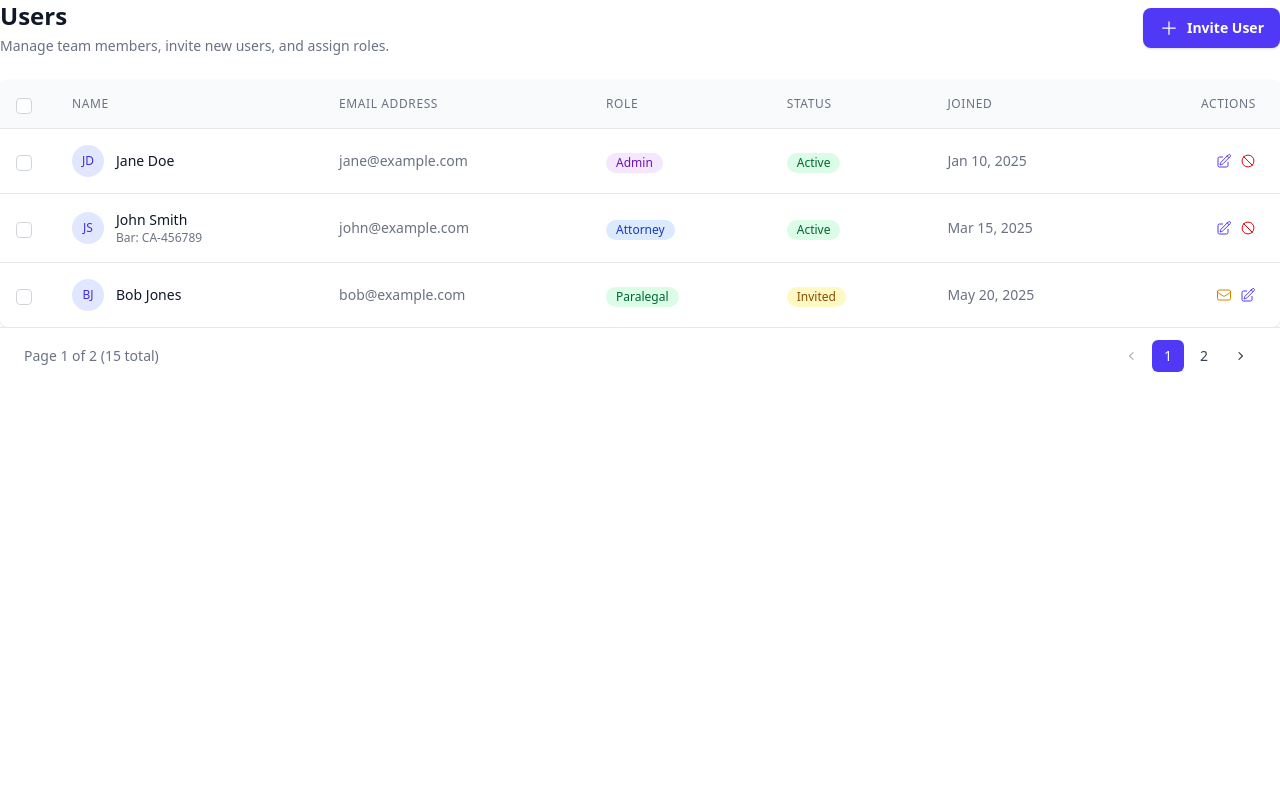
Test: UsersView › opens invite user modal on click
Click the button "Invite User": (1212, 28) [1143,8,1279,48]
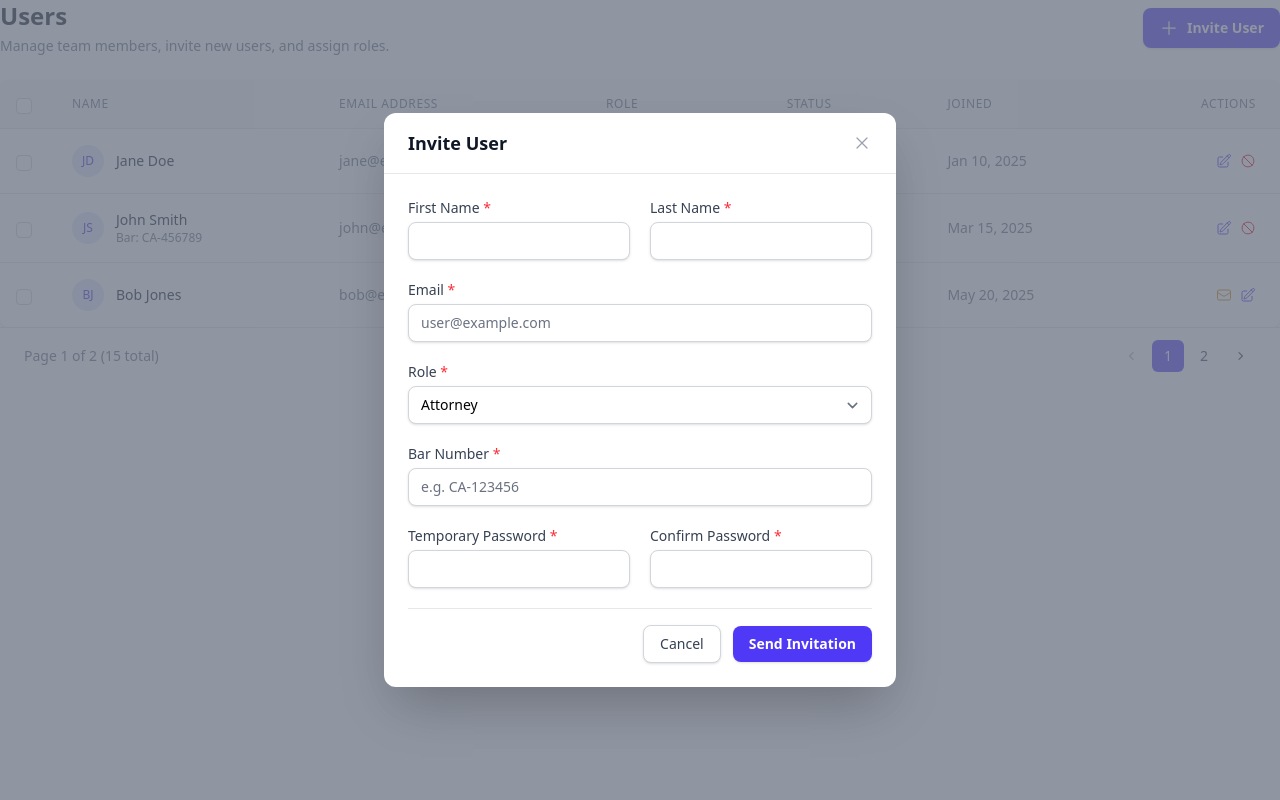
expect the field with id "invite-email" is shown: met, box [408,304,872,342]
expect the field with id "invite-first" is shown: met, box [408,222,630,260]
expect the field with id "invite-last" is shown: met, box [650,222,872,260]
